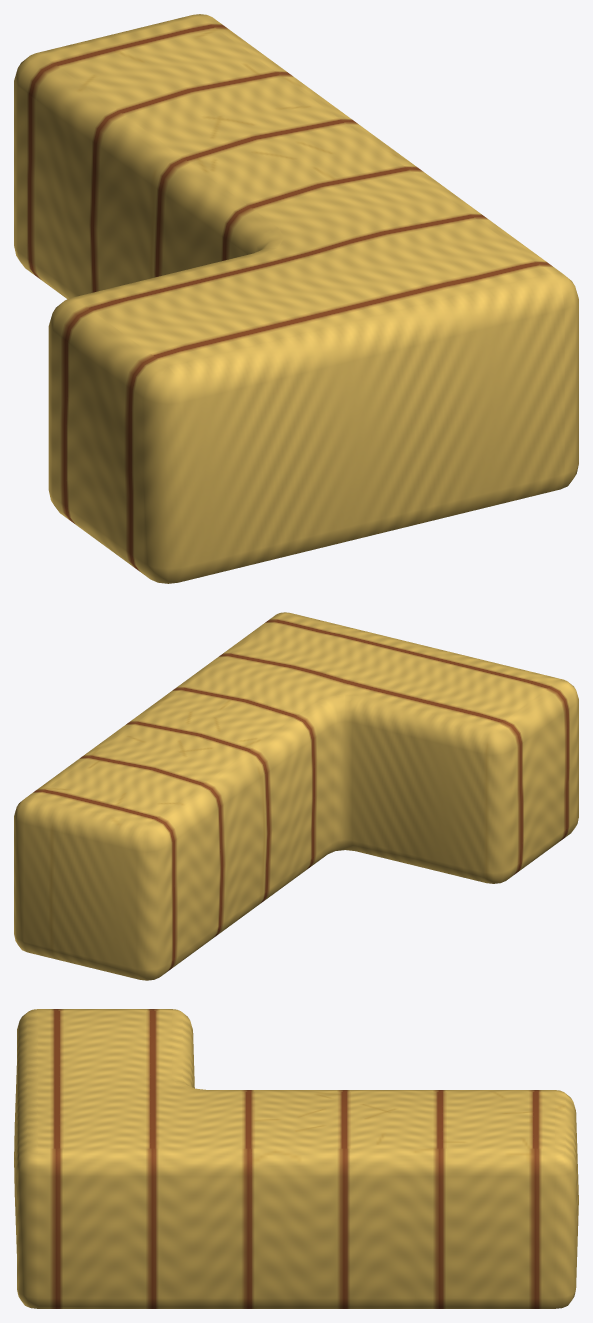
File: HayBale_LMirror.fbx
3 renders of one model, top to bottom at view 1: azimuth 30°, elevation 25°; view 2: azimuth 150°, elevation 25°; view 3: azimuth 270°, elevation 25°, orthographic. The views are drawn at different scales.
Parts seen in each view (by area): view 1: HayBale_LMirror; view 2: HayBale_LMirror; view 3: HayBale_LMirror.
Part boxes in pixels (x1,y1,x2,y2): HayBale_LMirror: [14, 14, 578, 583]; HayBale_LMirror: [14, 612, 578, 980]; HayBale_LMirror: [14, 1009, 578, 1308].
Bounding box in the file's own units: 1.95 × 0.9078 × 2.95.
1 material, 1 textured.
